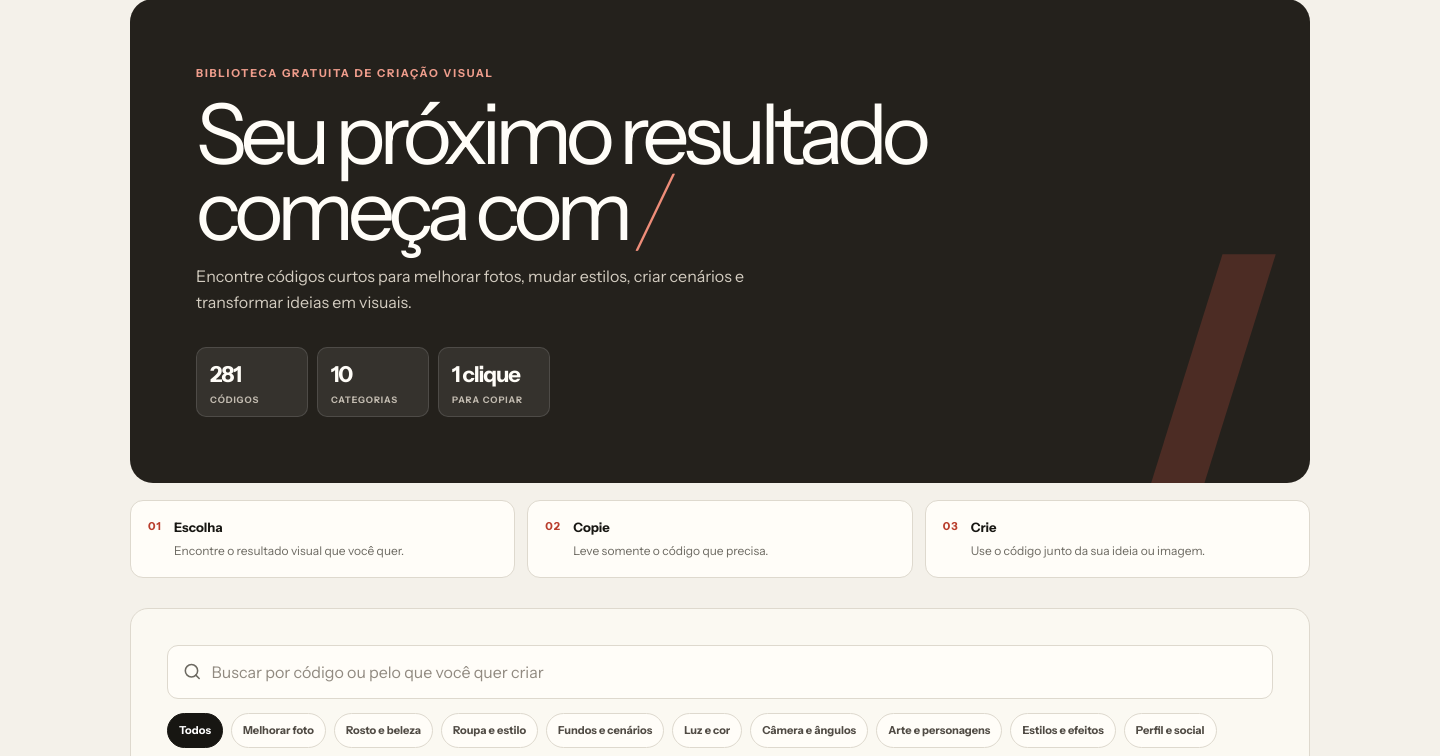
CodeDirectory › searches, filters, copies only the code, and shows an empty state
Type "hdreal" into the search field. click: coordinates (734, 672)
box: [212,646,1257,698]
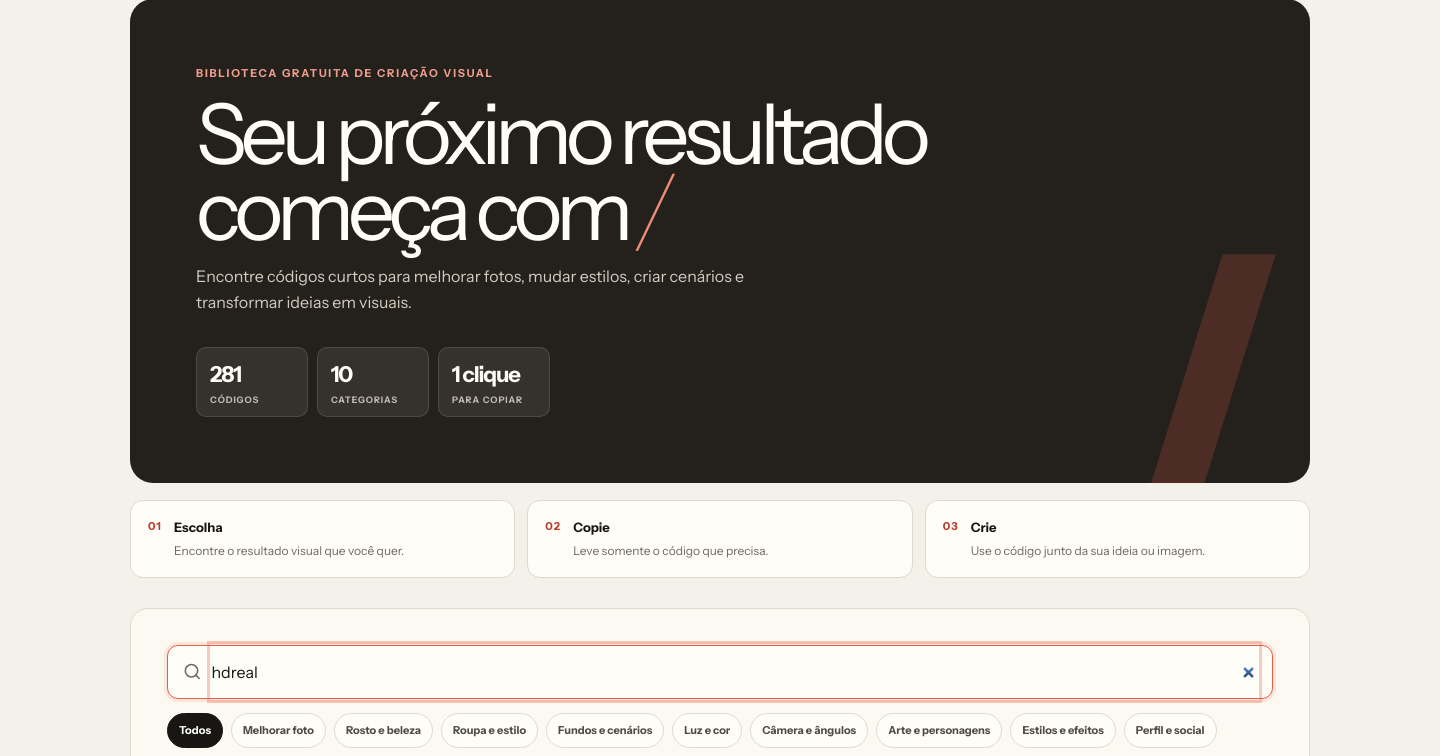
Clear the search field. click: coordinates (734, 672)
box: [212,646,1257,698]
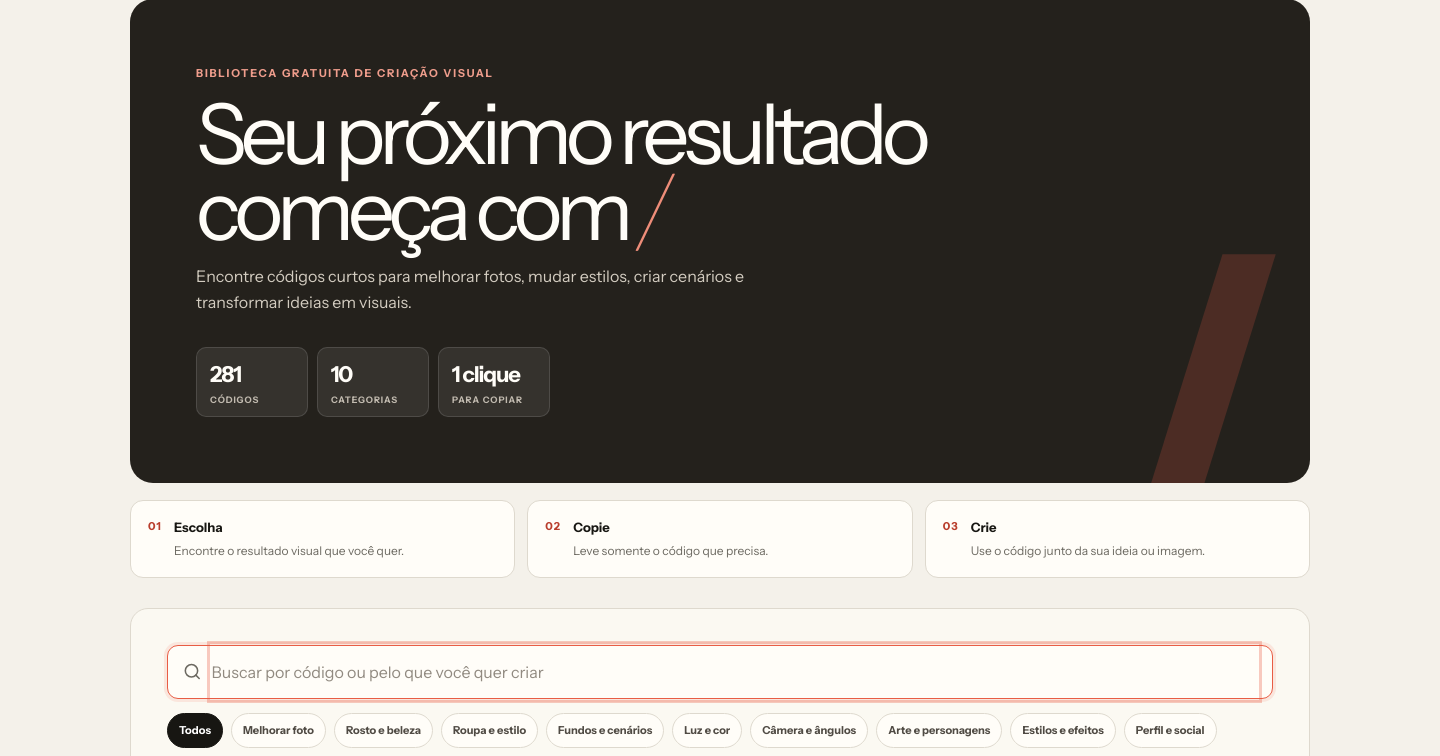
Click the button "Fundos e cenários". click: coordinates (605, 730)
box: [546,713,664,748]
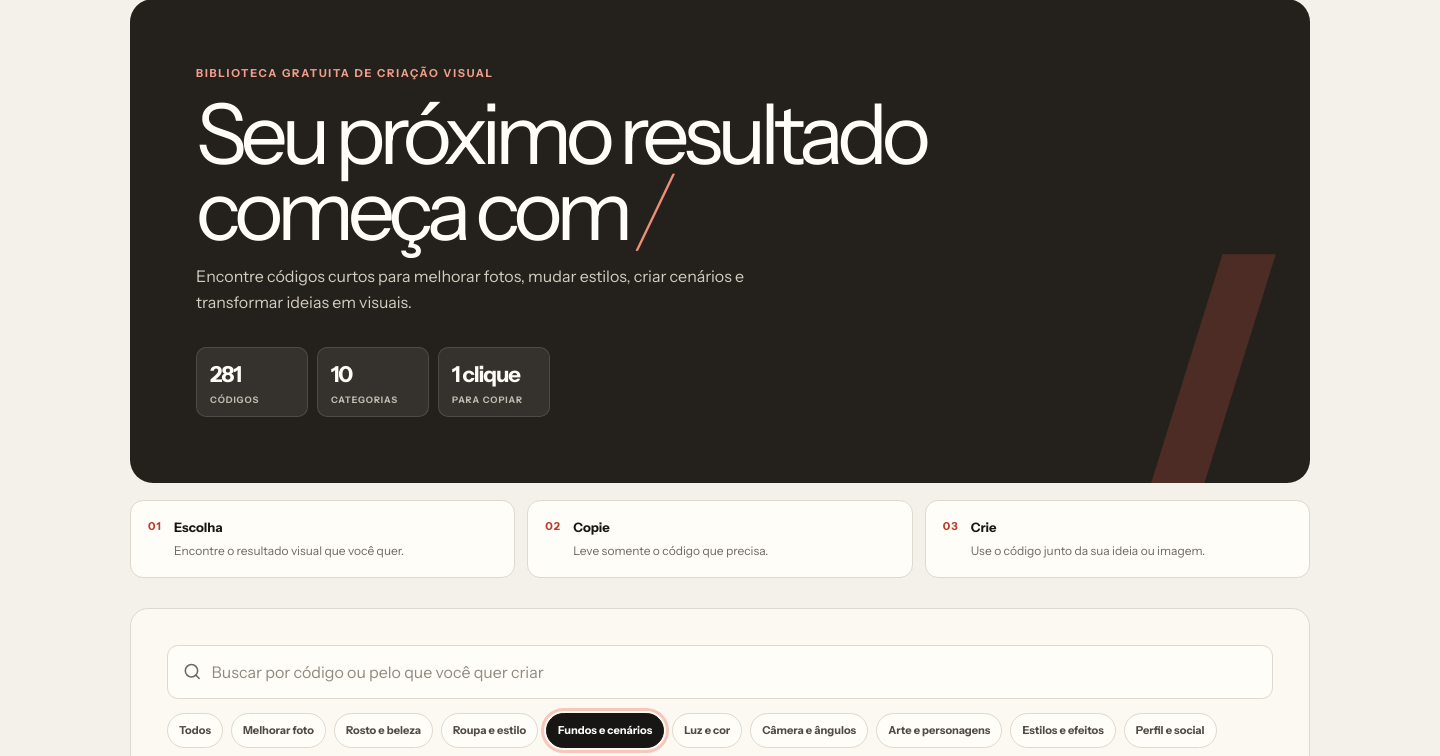
Type "newbg" into the search field. click: coordinates (734, 672)
box: [212,646,1257,698]
(page scrolled)
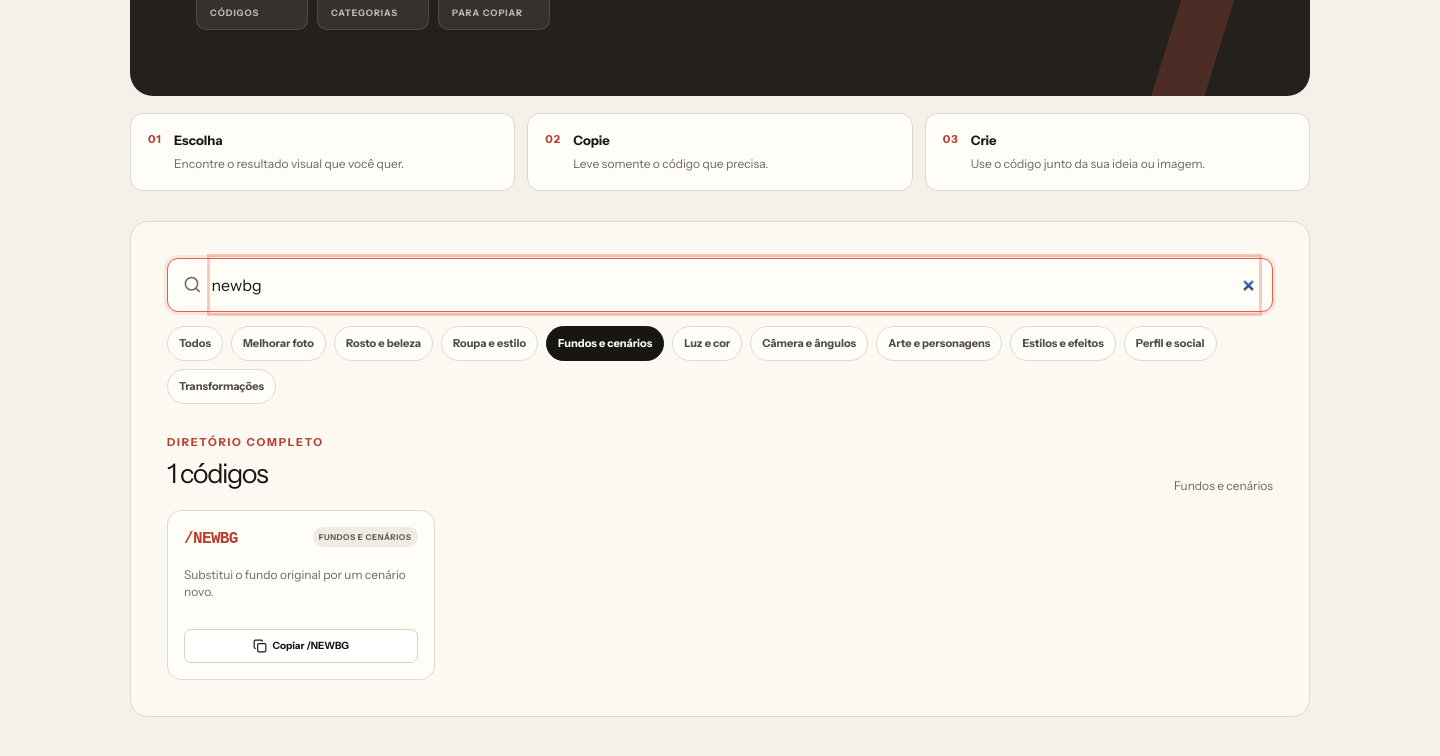
Now the text "/NEWBG" is shown, box [184,527,238,551]
Click the button "Copiar /NEWBG". click: coordinates (301, 646)
box: [184,629,418,663]
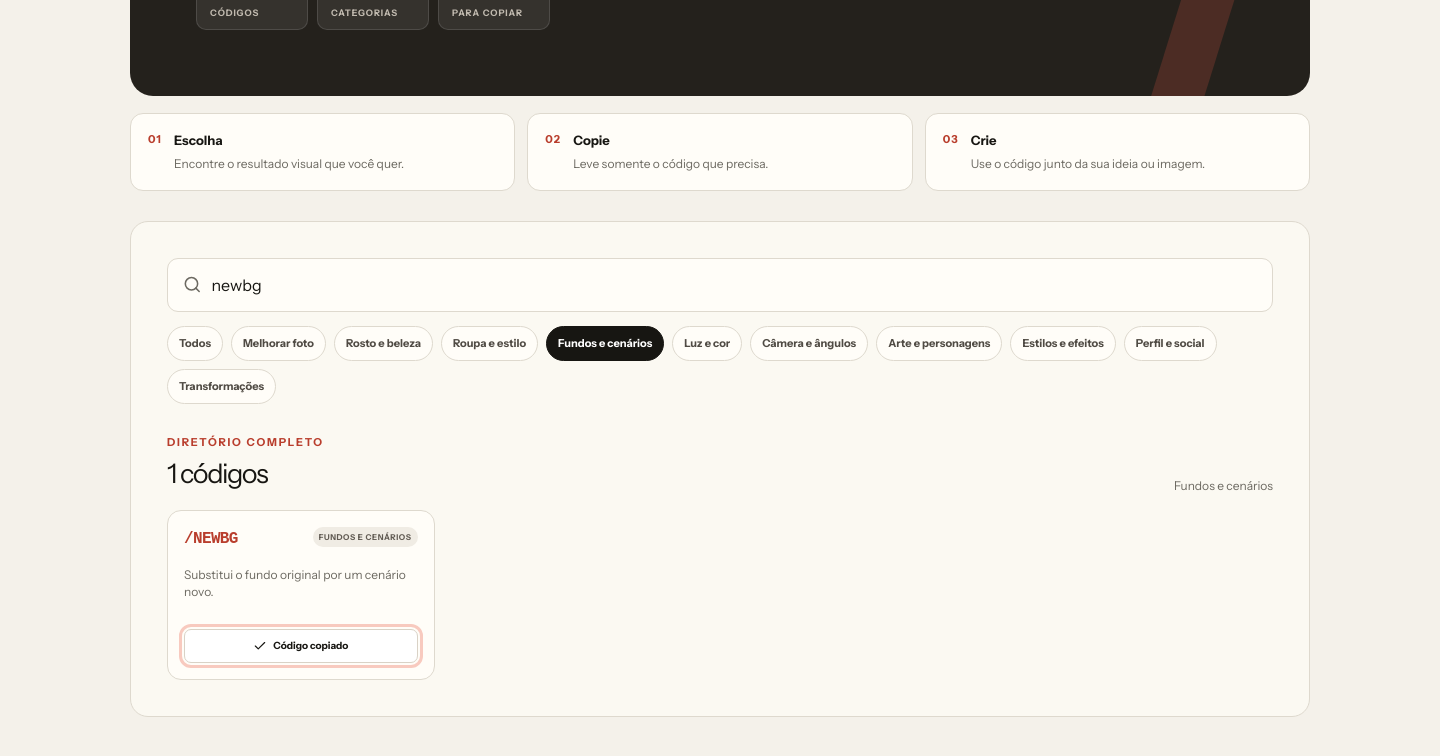
Now the button "Código copiado" is shown, box [184,629,418,663]
Type "zzznada" into the search field. click: coordinates (734, 285)
box: [212,259,1257,311]
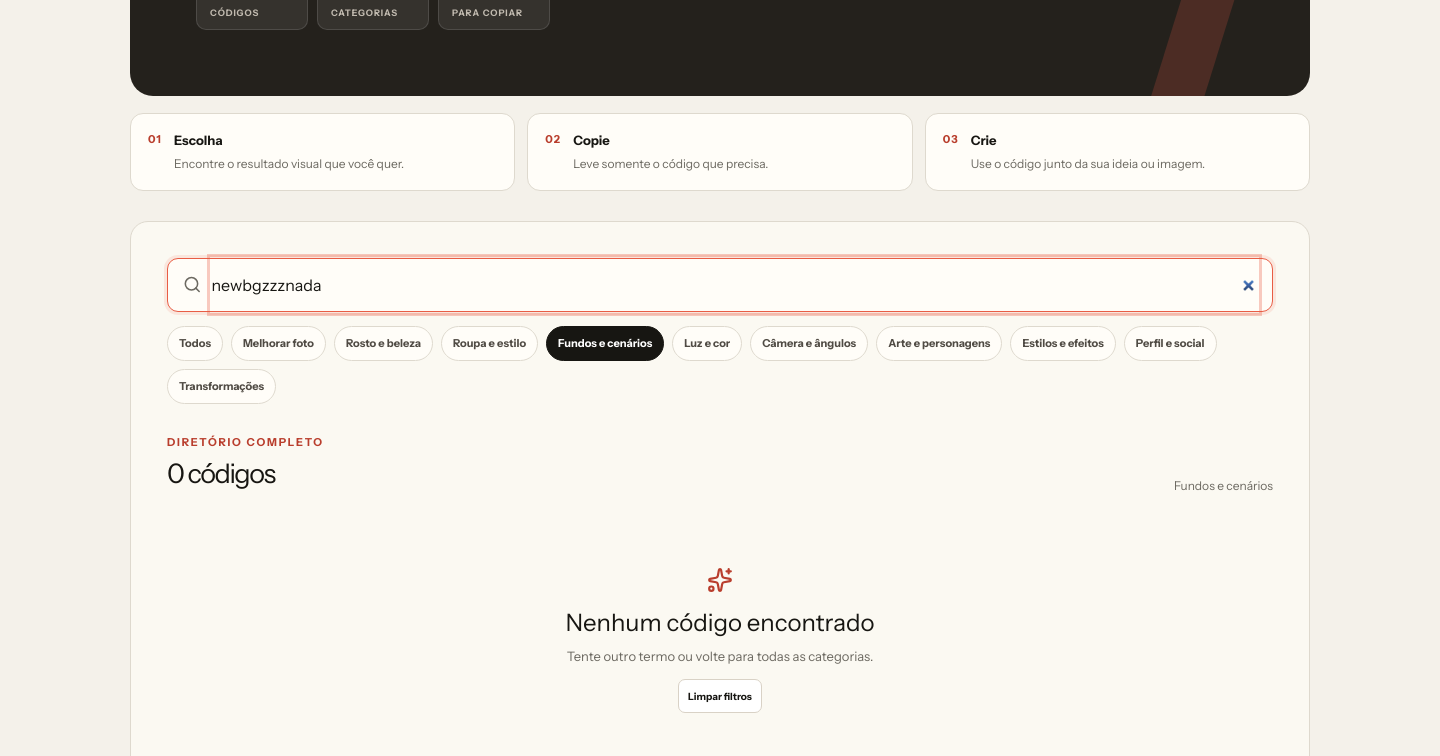
Now the heading "Nenhum código encontrado" is shown, box [565,605,875,641]
